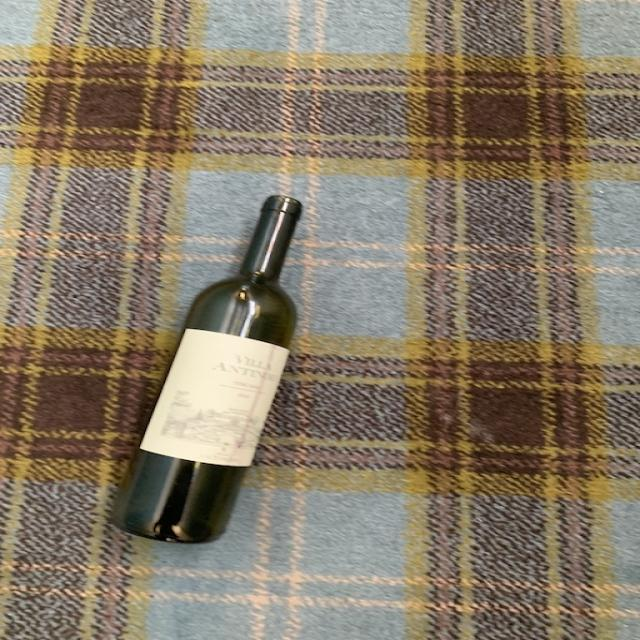litter: (110, 178, 318, 545)
